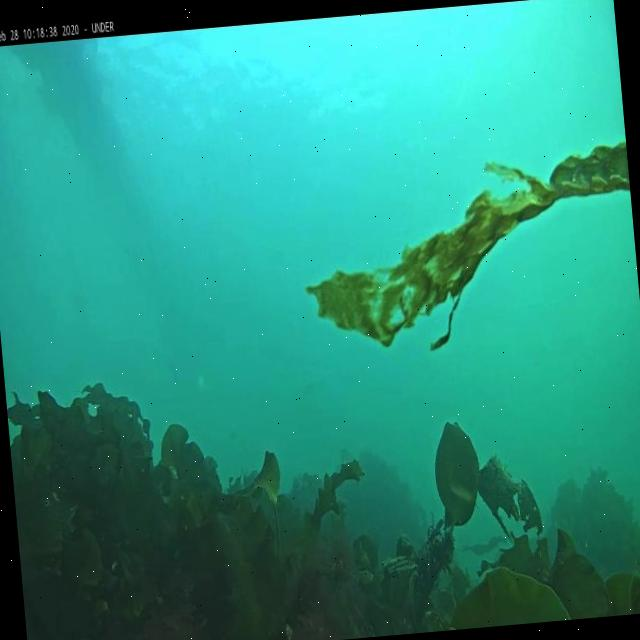fish: (388, 556, 416, 571)
